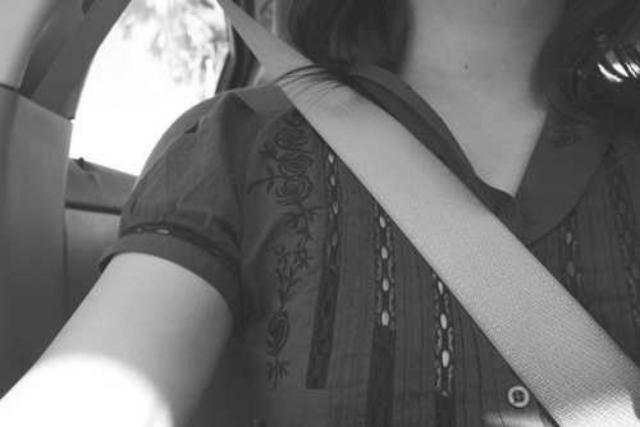Seatbelt: (206, 0, 639, 427)
